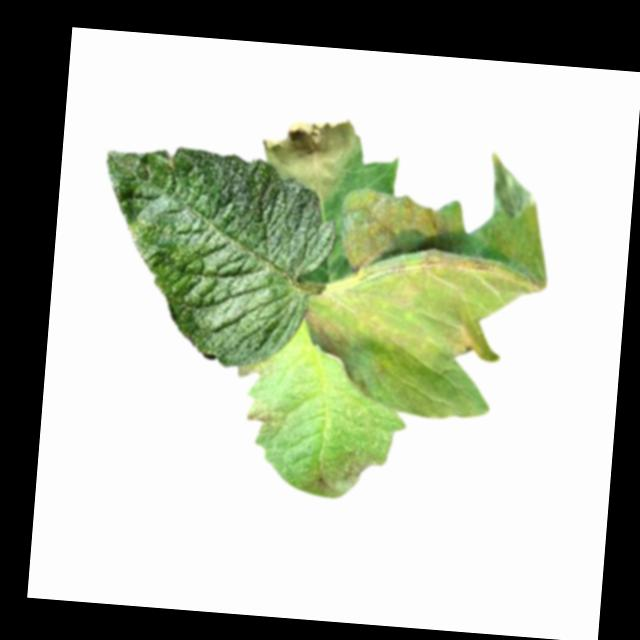Late_blight: (337, 186, 460, 283), (256, 108, 359, 201), (300, 305, 370, 391), (310, 440, 385, 502), (447, 323, 483, 360), (246, 406, 274, 425)
healthy: (88, 140, 340, 374)
